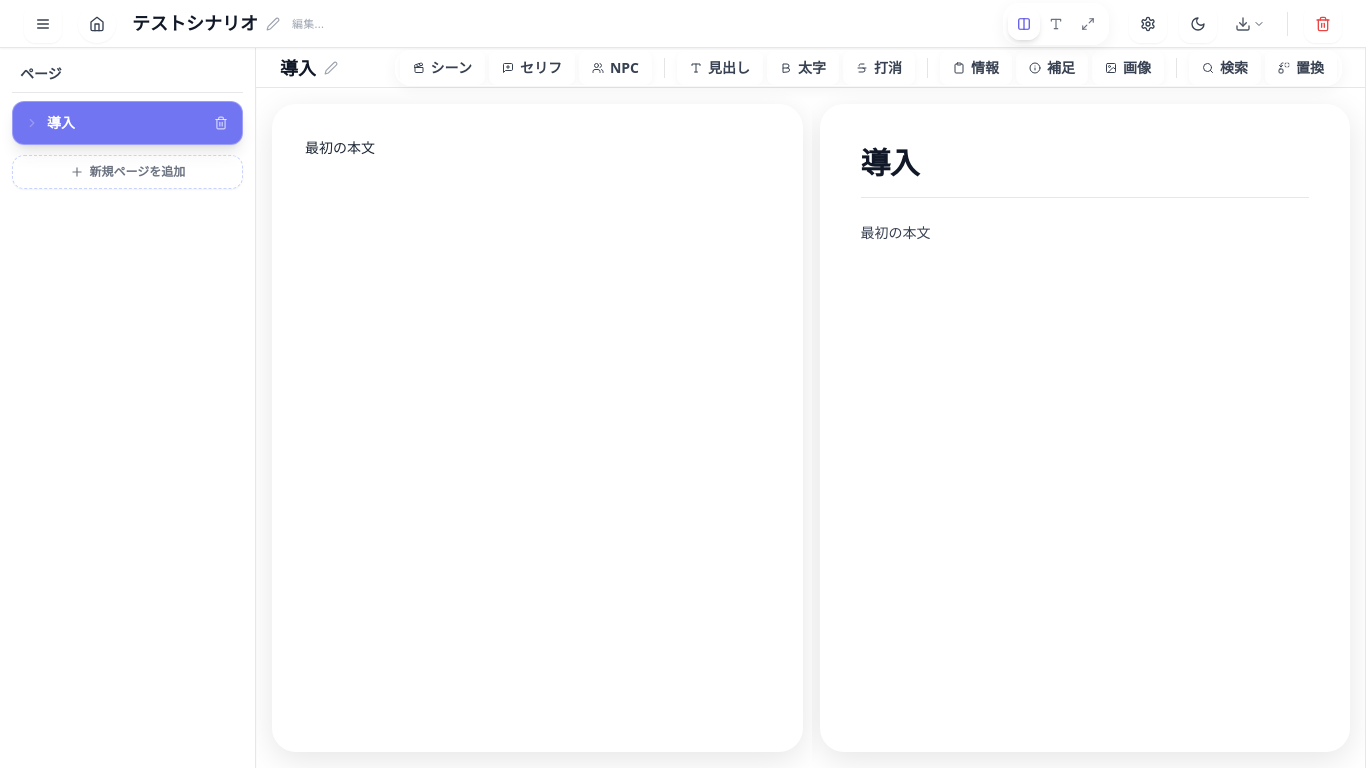
Test case: TRPGEditor › adds a page through the page-add shortcut flow
Step 1. Press P
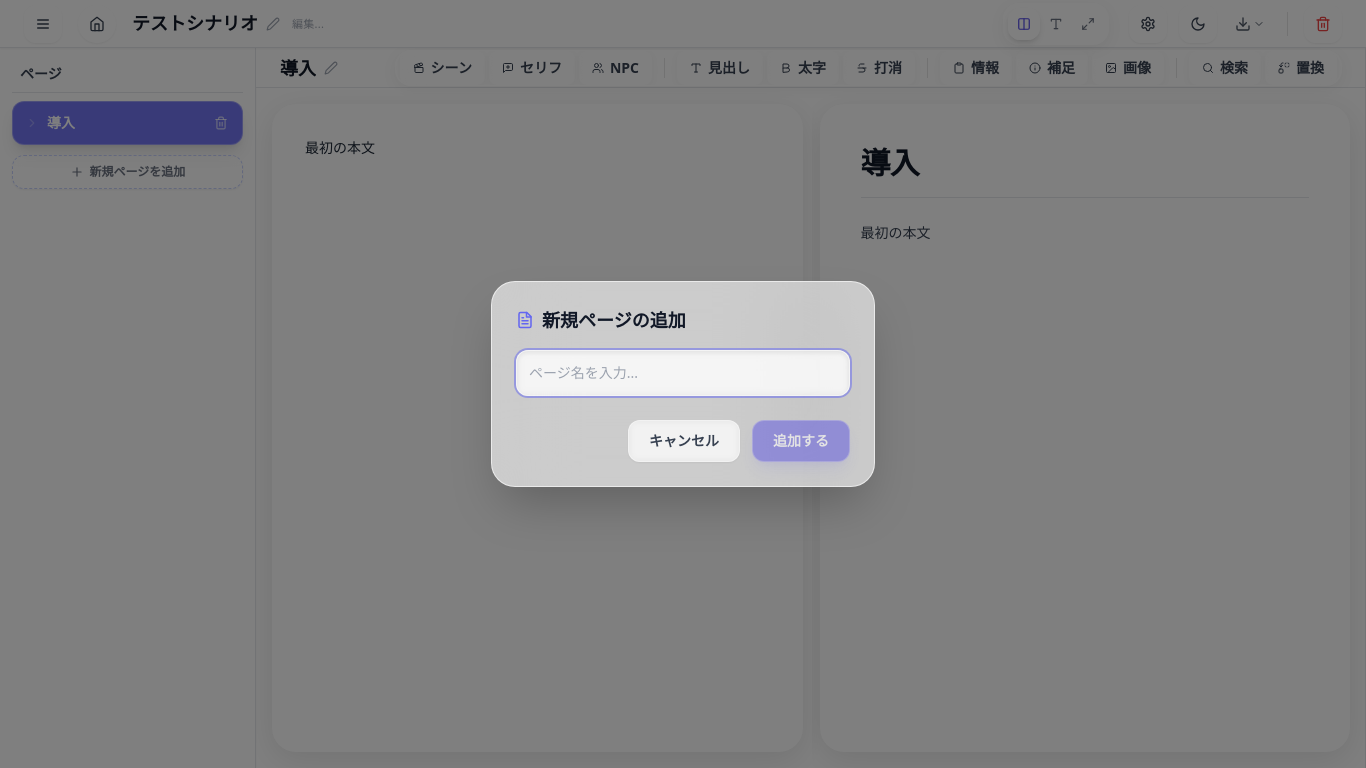
Step 2. Type "追加ページ" into the field with placeholder "ページ名を入力..." → [683, 373], box [516,350,850,396]
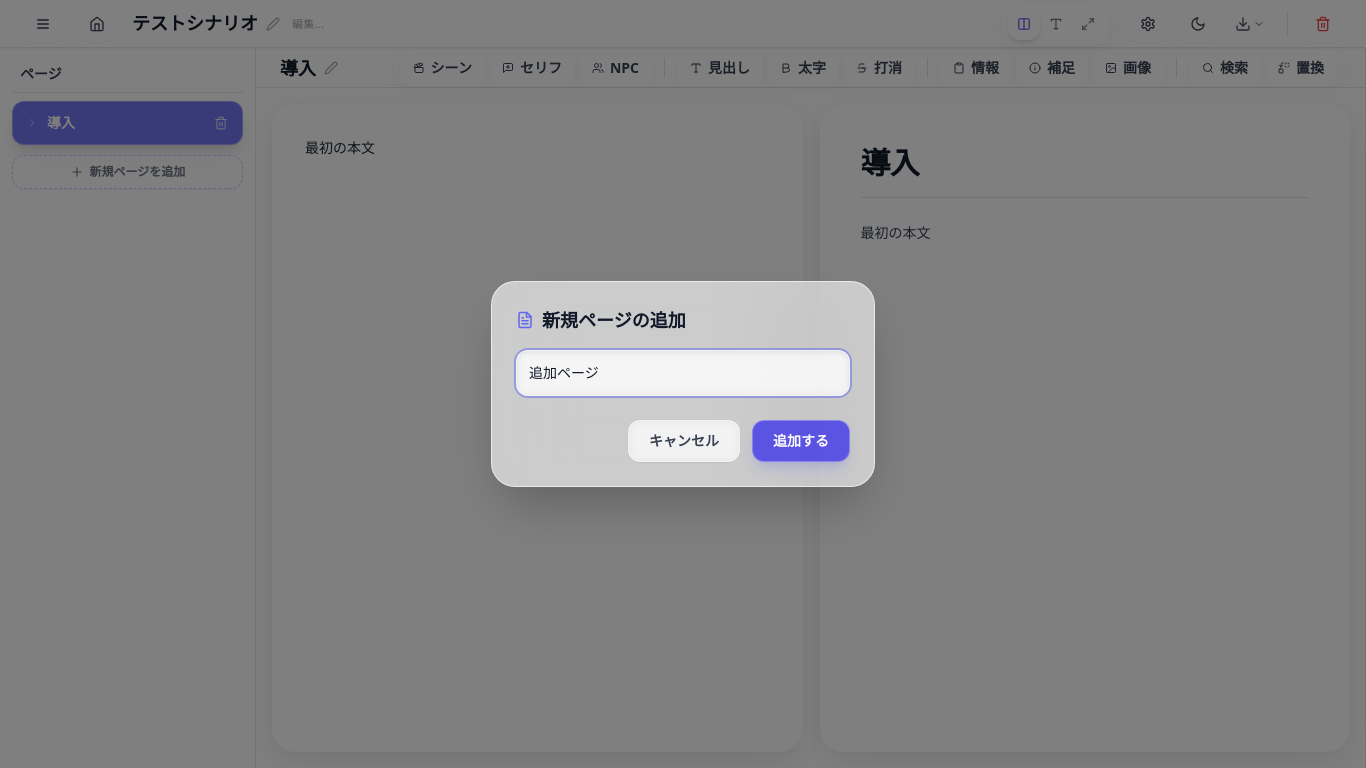
Step 3. Click the button "追加する" → [801, 441], box [752,420,850,462]
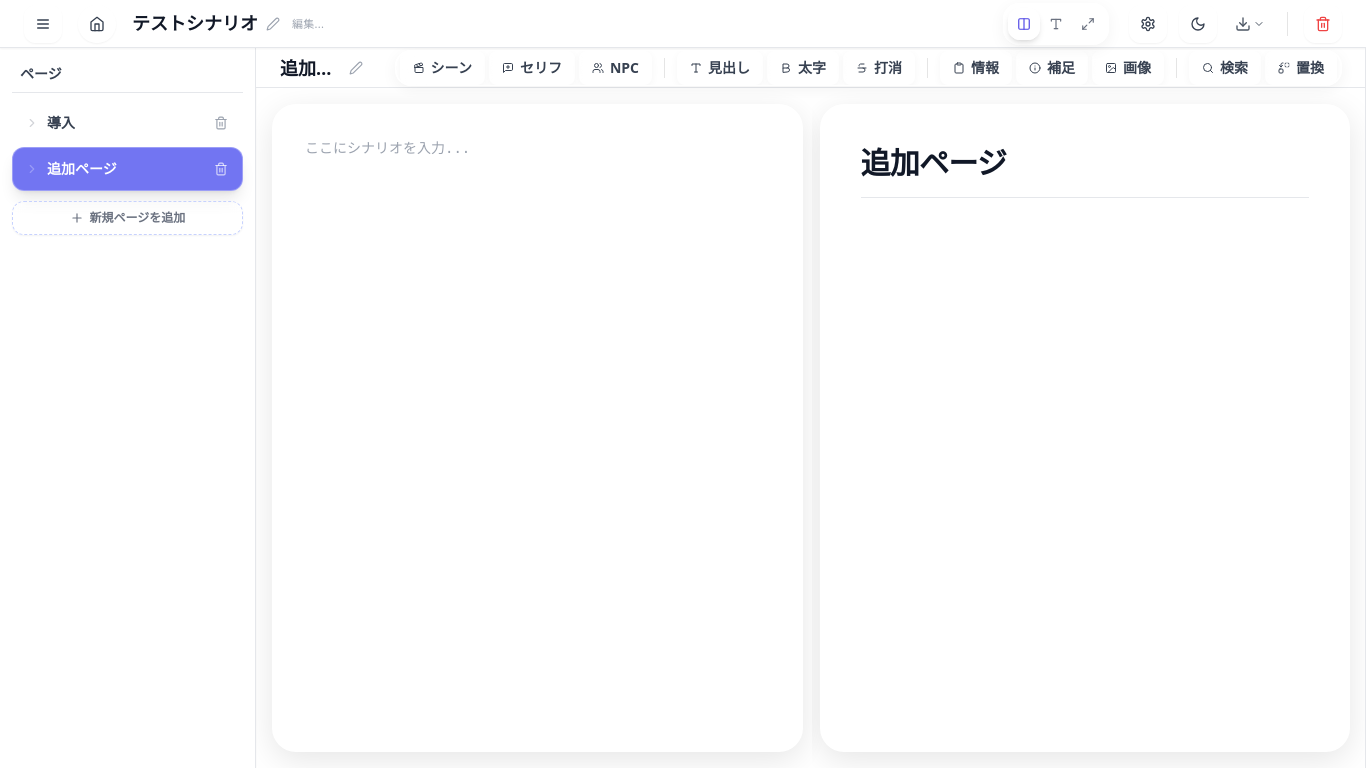
Expected: the text "ページ" is shown, [12,56,243,93]
Result: the text "追加ページ" is shown 3 times at [47,159,117,179]; [280,54,341,82]; [860,145,1309,198]
